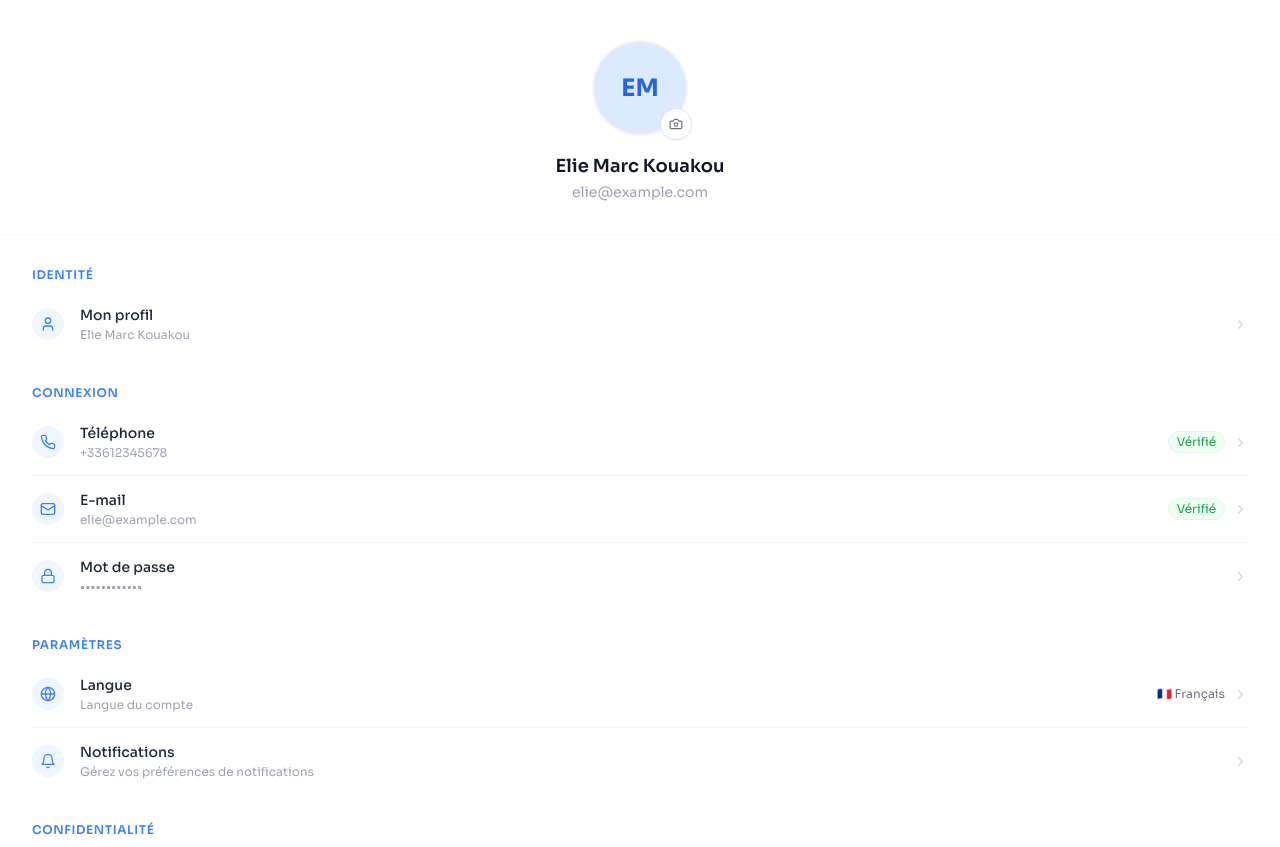
Scenario: ProfilePage › met à jour le mot de passe auprès de l’API
Click the button "Mot de passe ••••••••••••". click: (48, 576)
box: [32,543,1248,609]
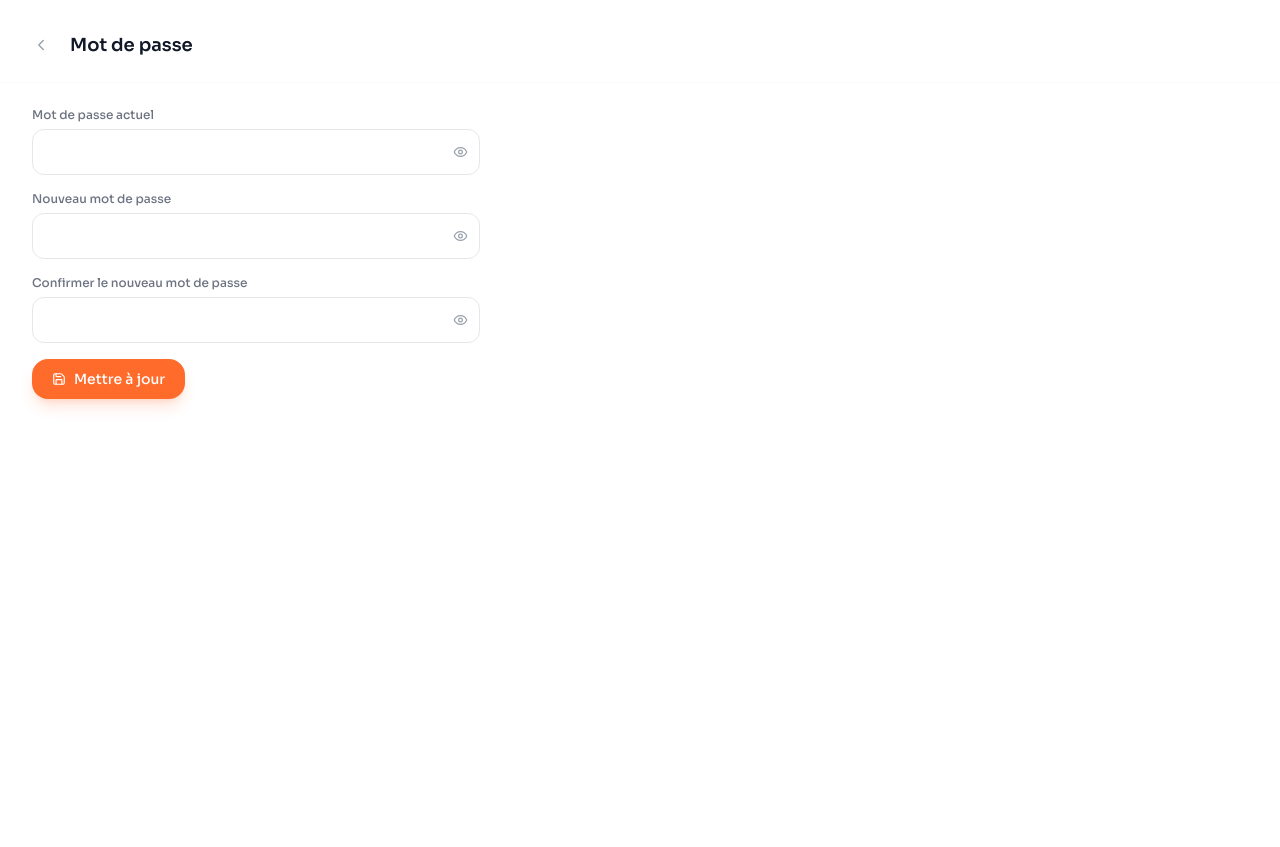
Type "Ancien123!" into the password field below "Mot de passe actuel". click: (256, 152)
box: [32,129,480,175]
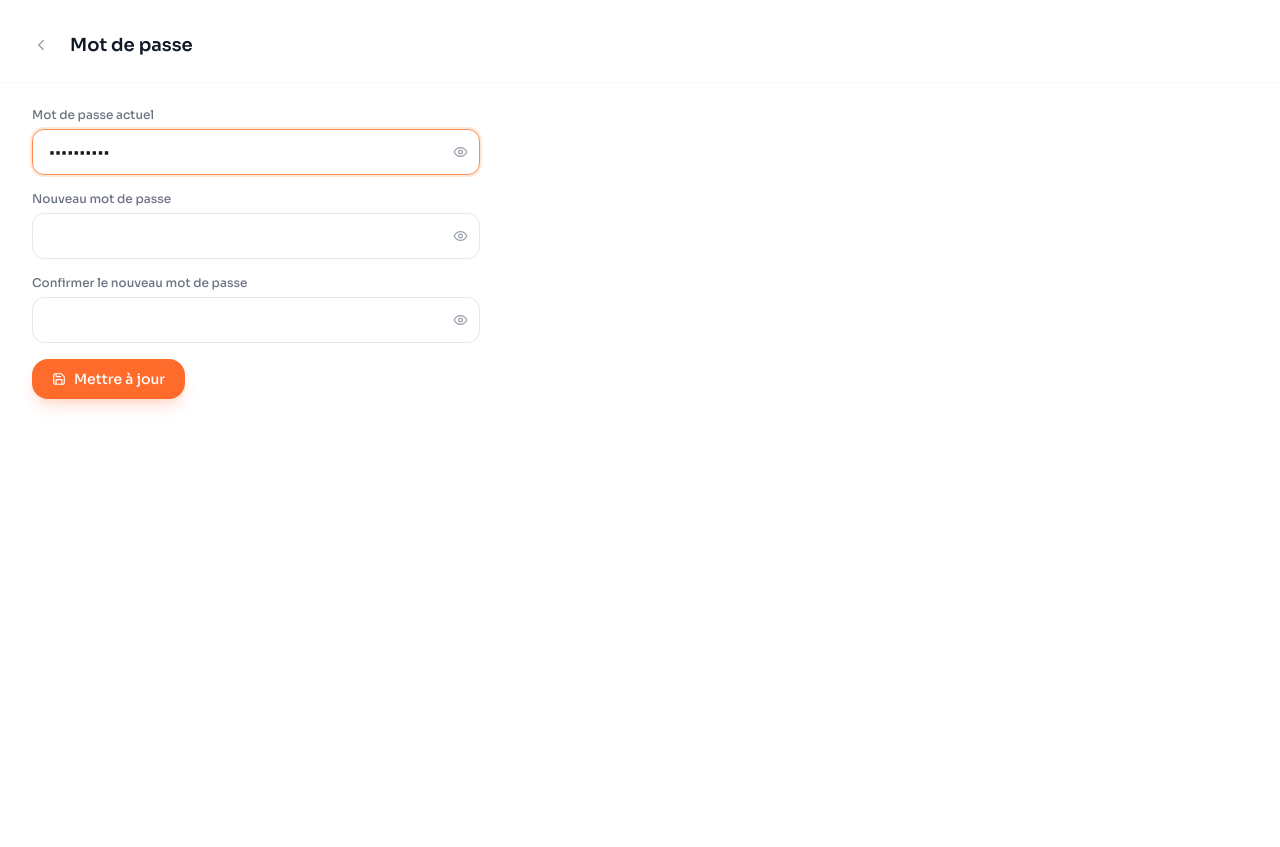
Type "Nouveau123!" into the 2nd password field. click: (256, 236)
box: [32,213,480,259]
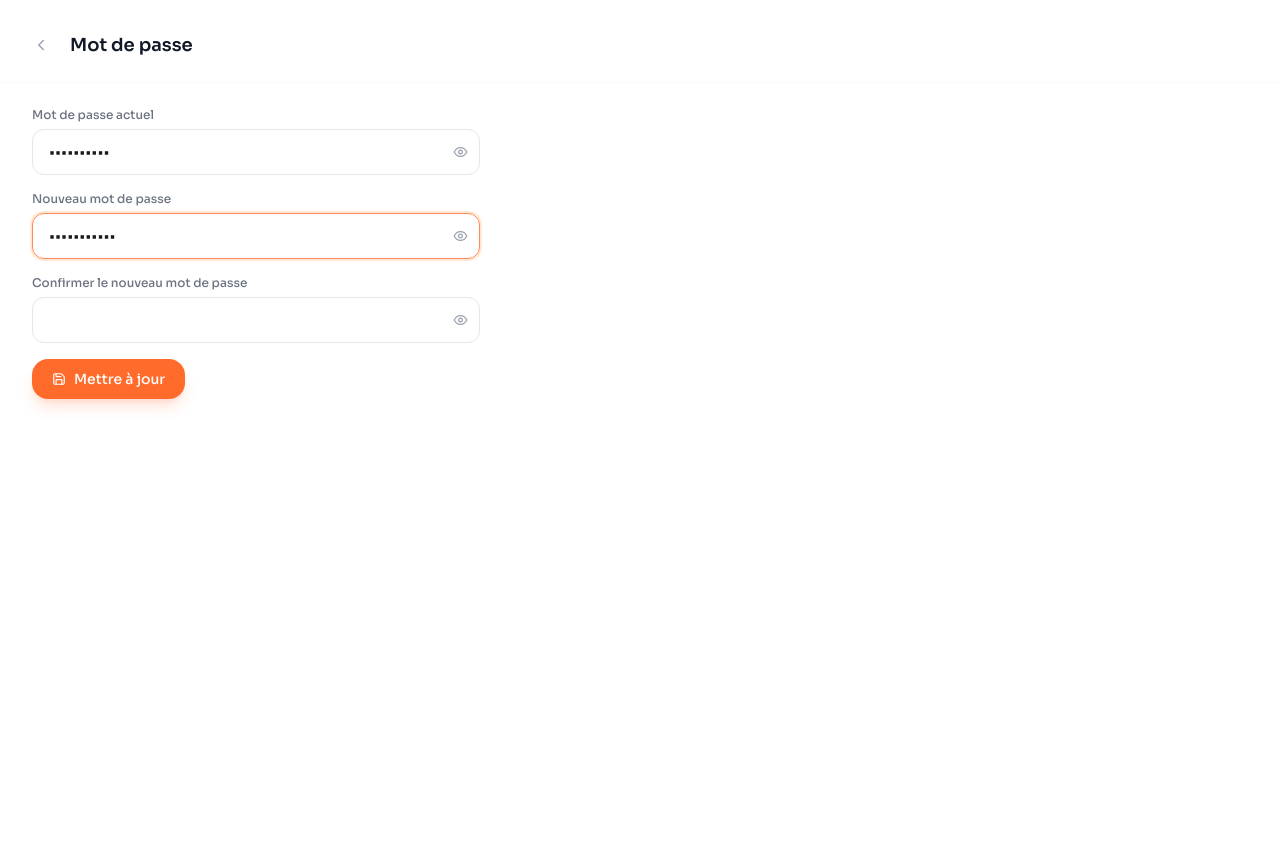
Type "Nouveau123!" into the password field below "Confirmer le nouveau mot de passe". click: (256, 320)
box: [32,297,480,343]
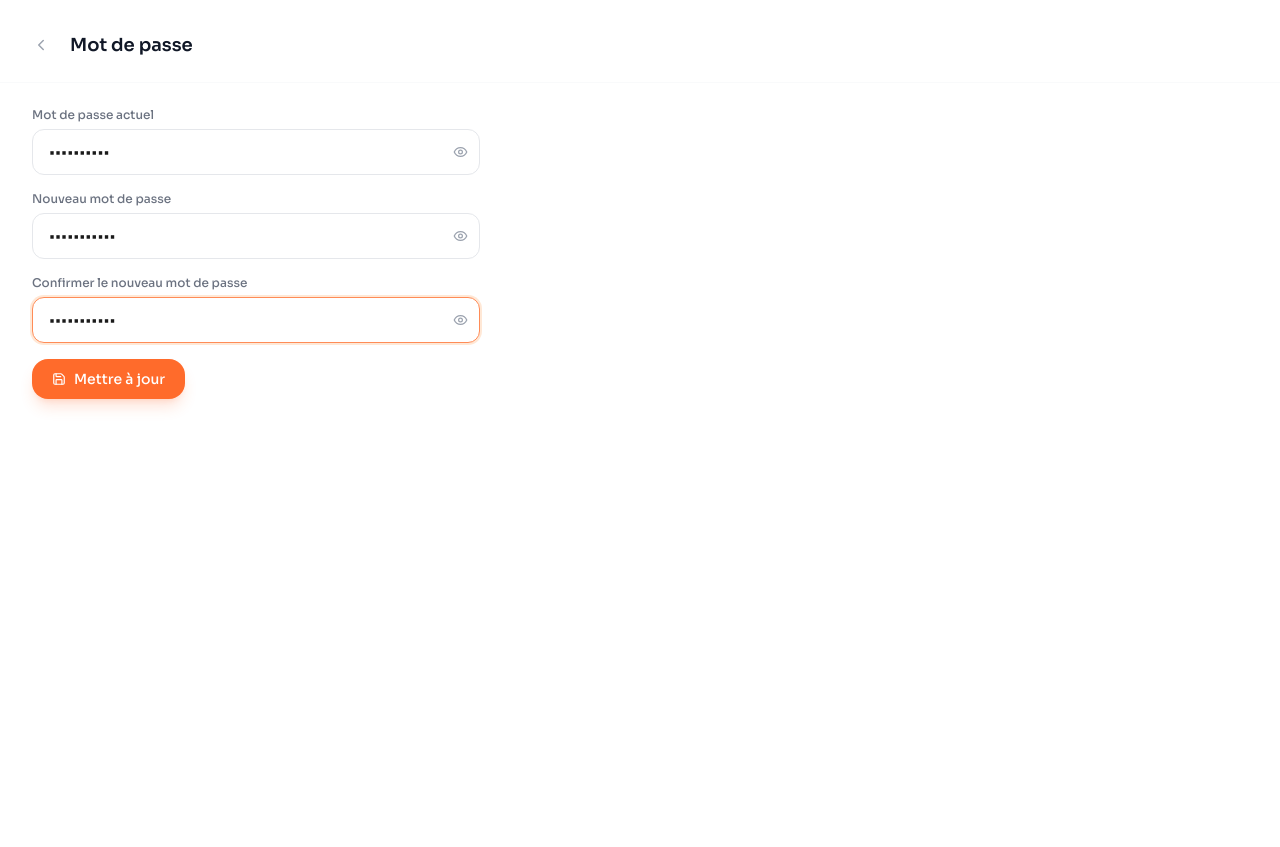
Click the button "Mettre à jour". click: (109, 379)
box: [32,359,185,399]
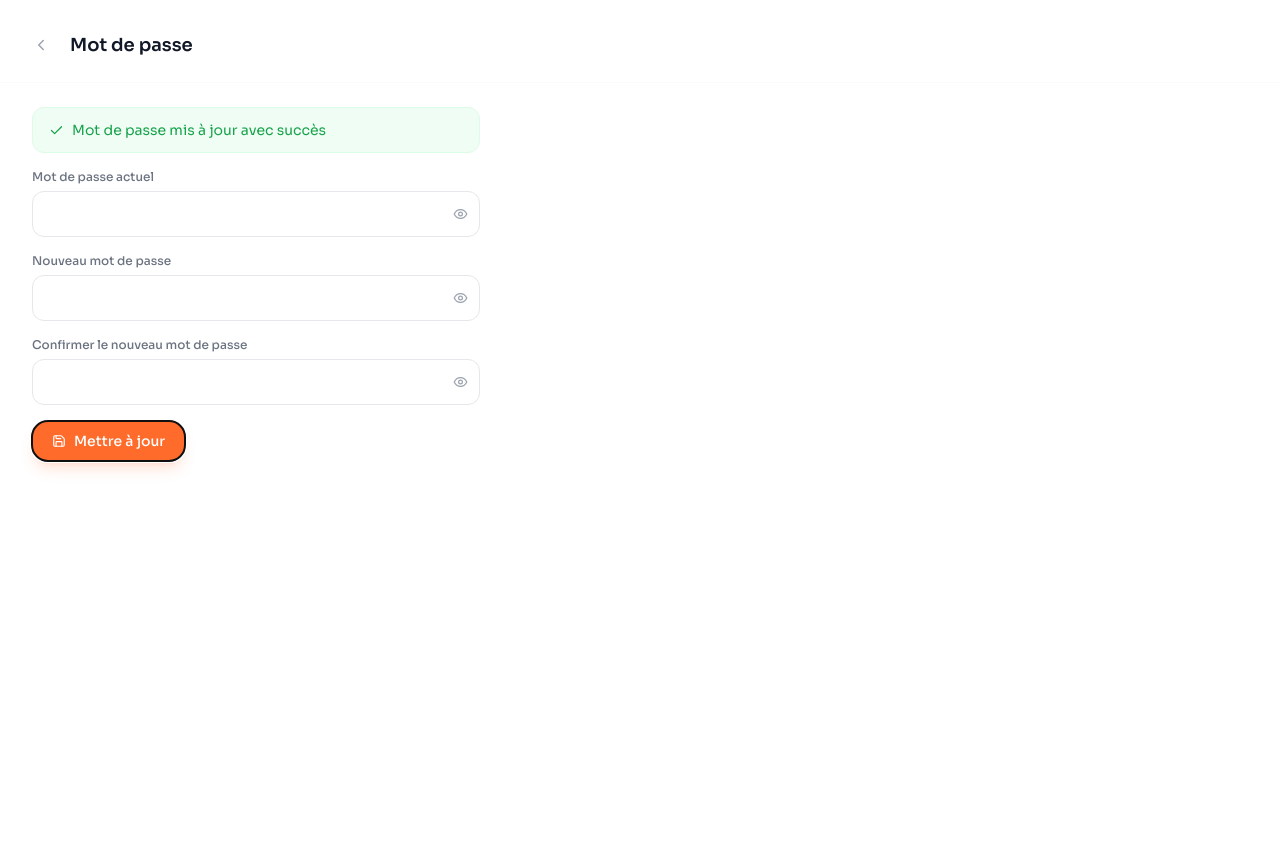
Check: the text "Mot de passe mis à jour avec succès" is shown, box [32,107,480,153]
